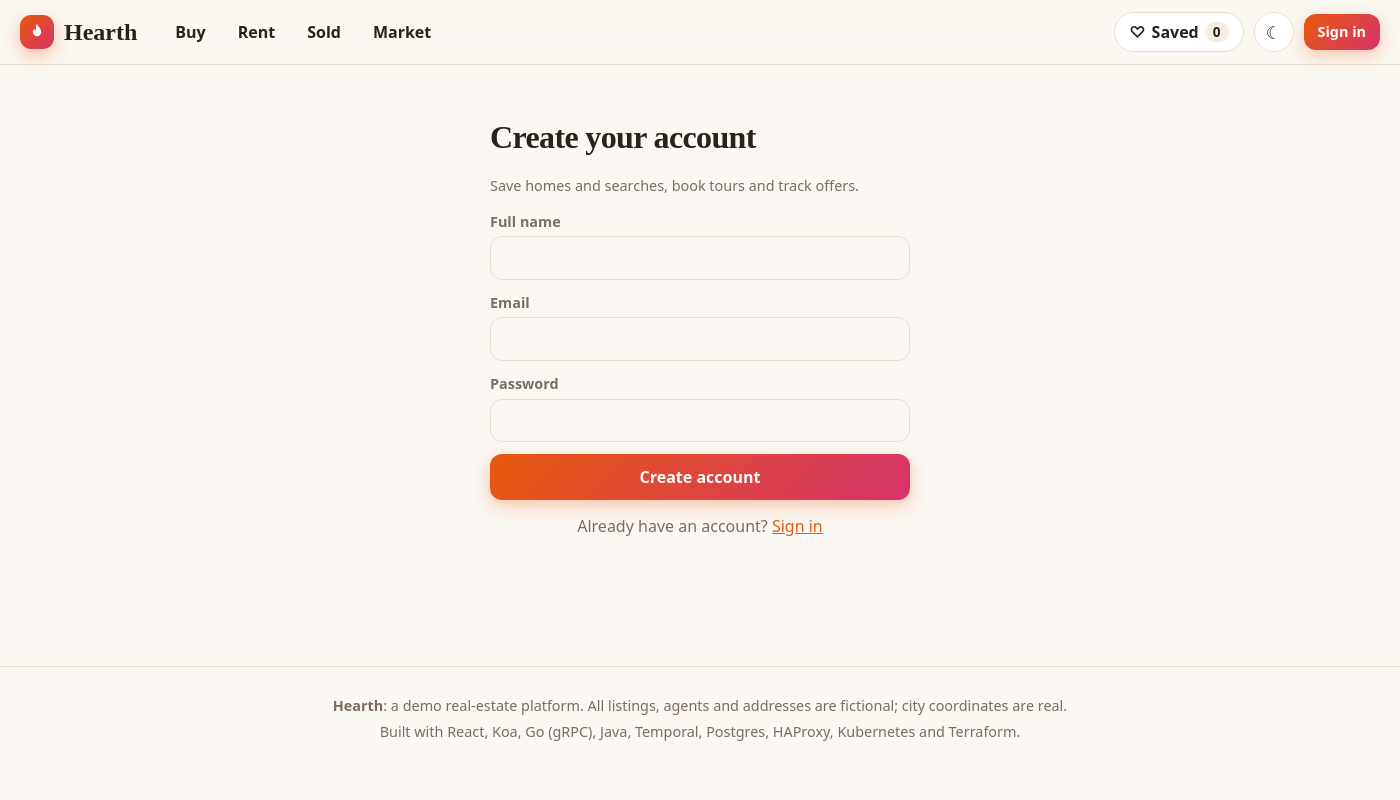
Test: accounts and offers (network stubbed) › register shows field-level validation from the API
Step 1. Type "Ada Lovelace" into the field named "name" → (700, 258), box [490, 236, 910, 280]
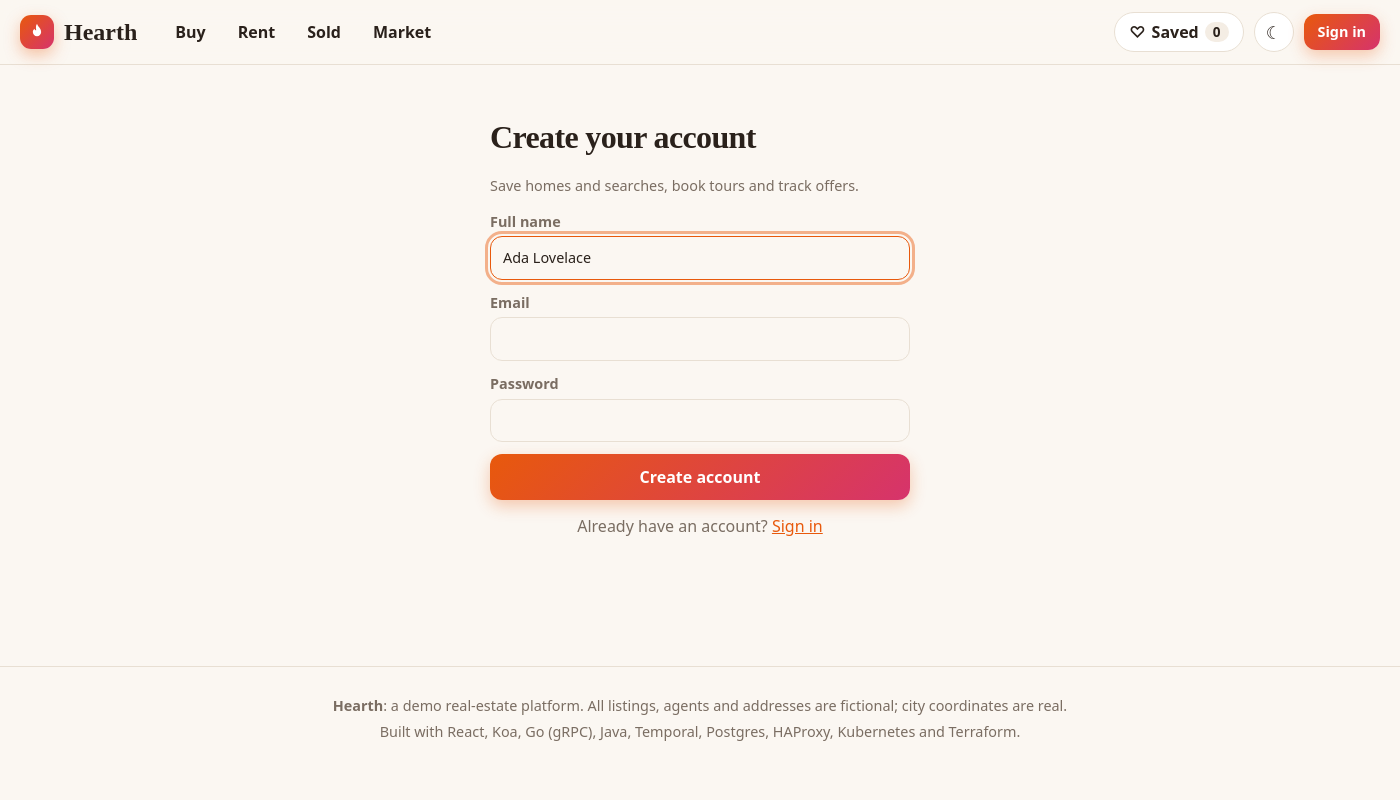
Step 2. Type "ada@example.com" into the field named "email" → (700, 339), box [490, 317, 910, 361]
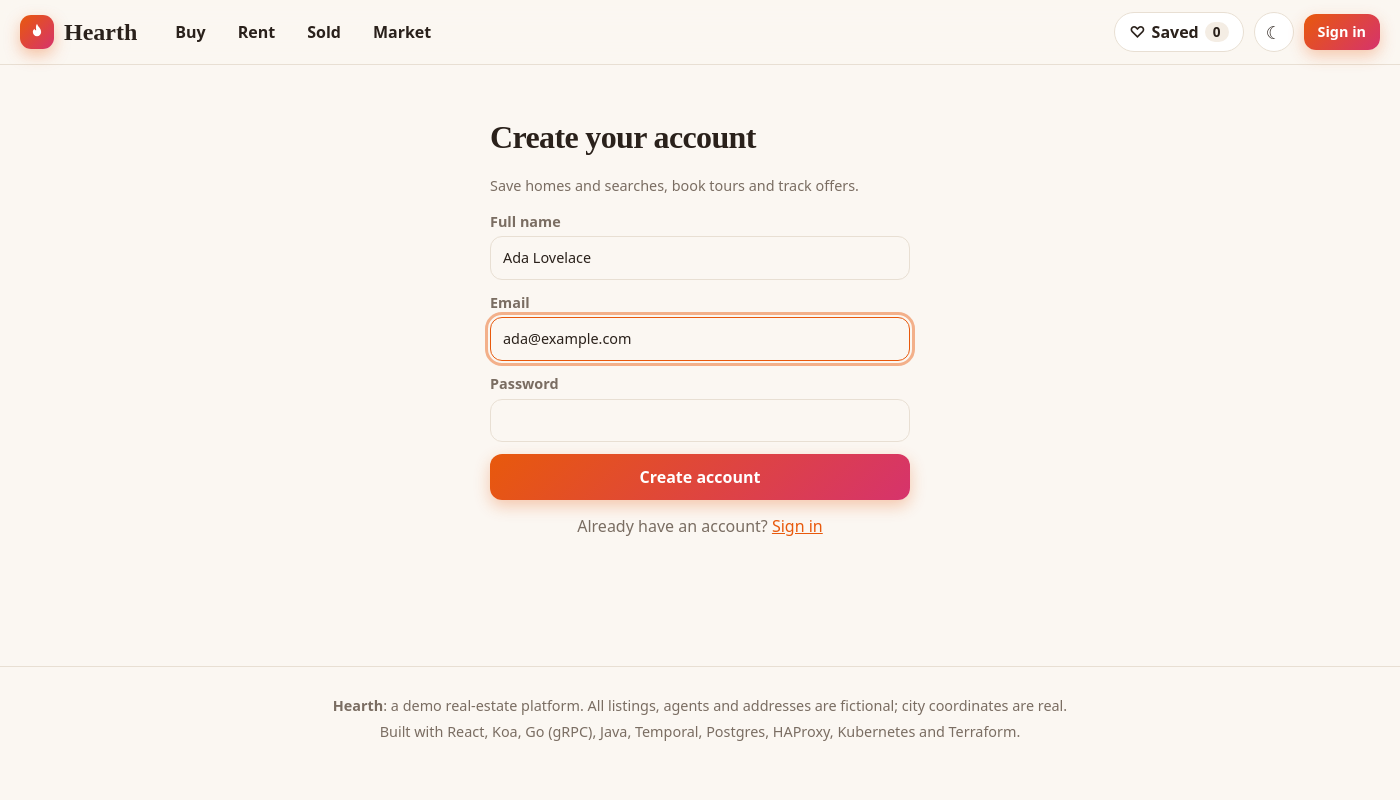
Step 3. Type "longenough1" into the password field named "password" → (700, 421), box [490, 399, 910, 443]
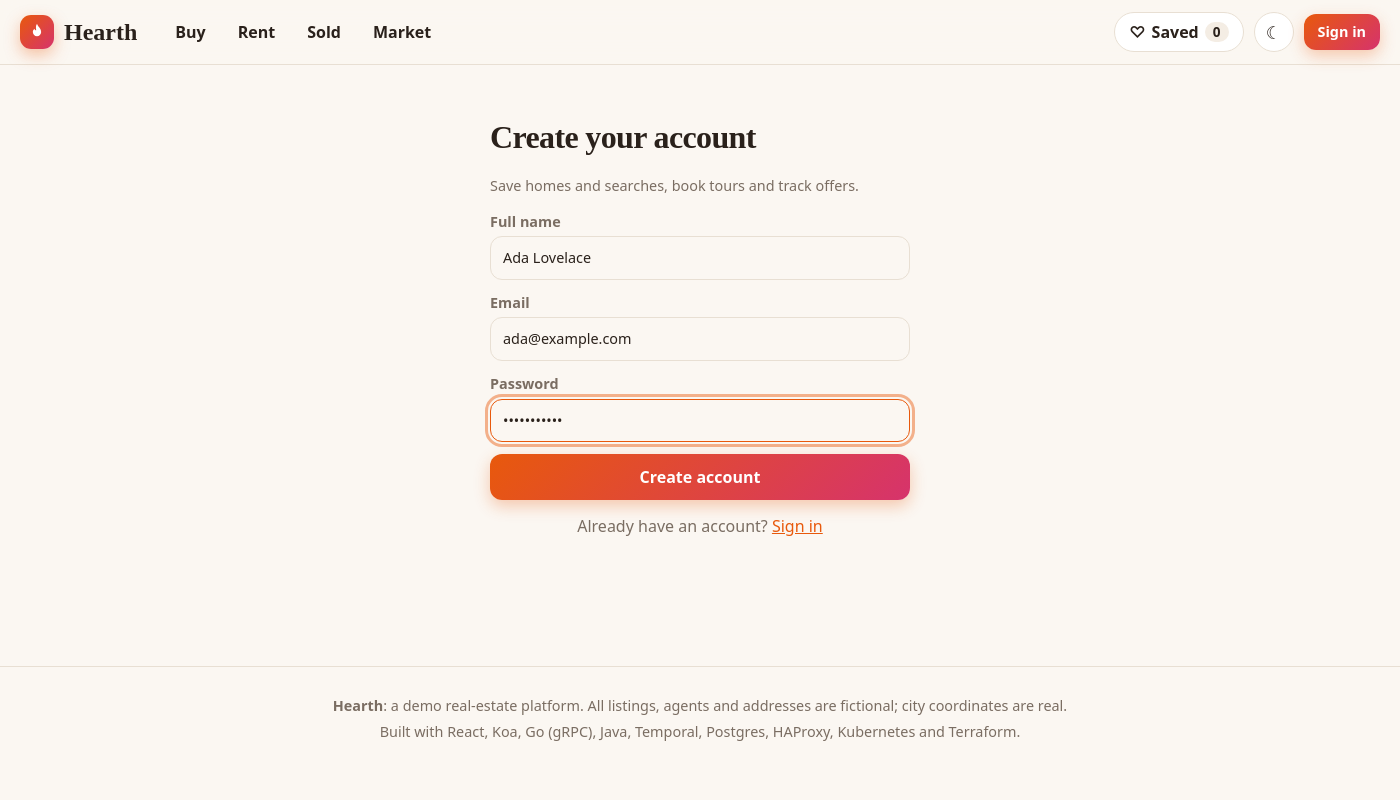
Step 4. Click the button with test id "auth-submit" → (700, 477), box [490, 454, 910, 500]
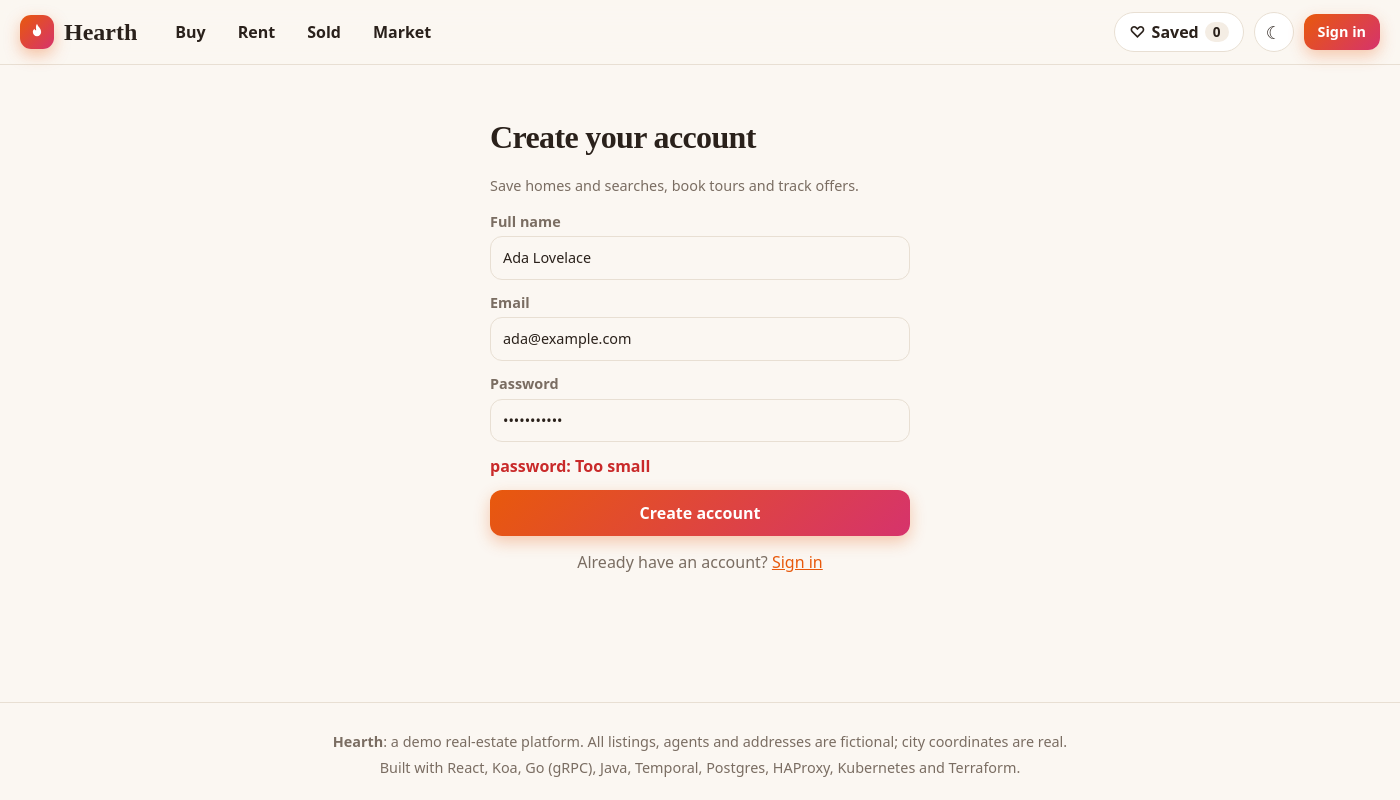
expect the message with test id "auth-error" reads "password: Too small": met, box [490, 455, 650, 477]
